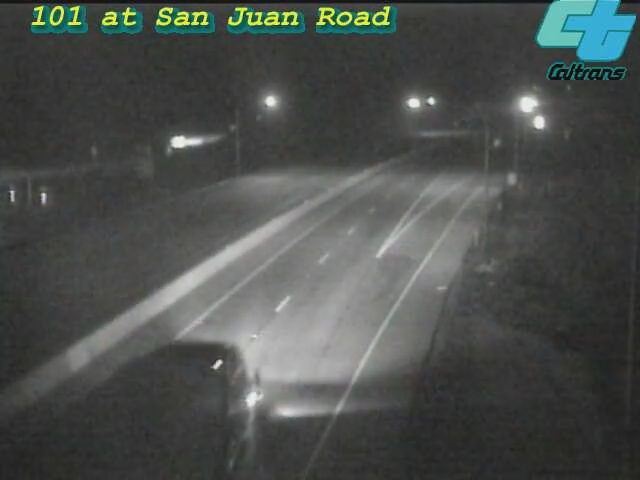vehicle: (83, 382, 193, 480), (519, 97, 569, 147), (502, 79, 552, 129)
